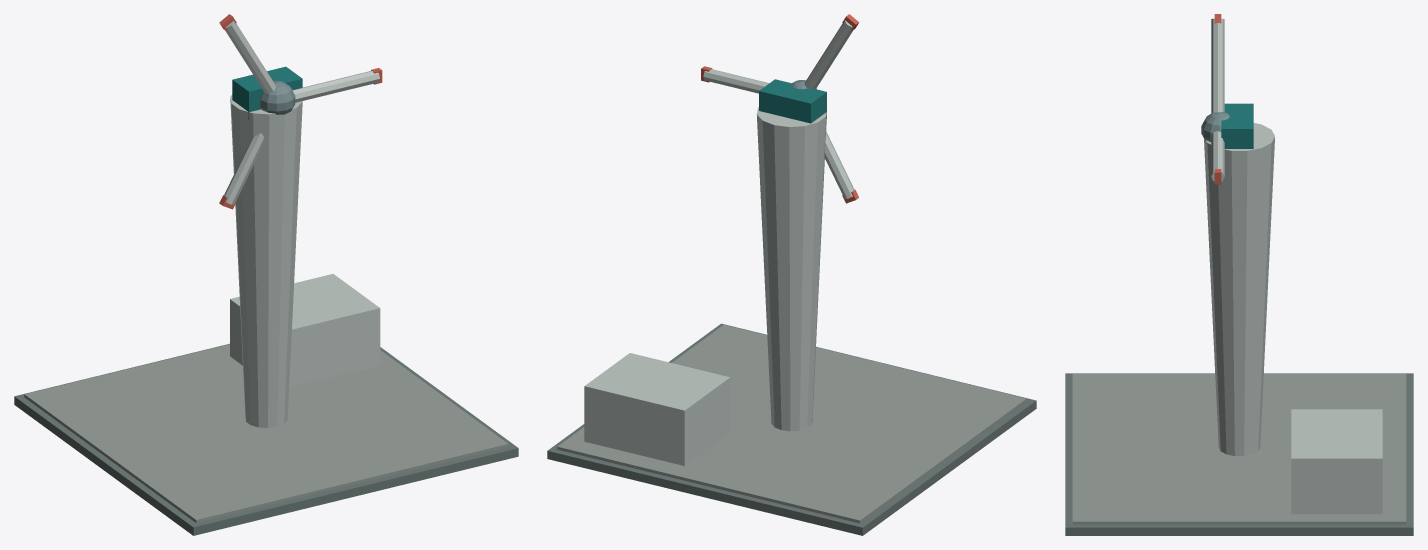
The model's file is wind_lv2.glb.
3 views of the same model, side by side, from view 1: azimuth 30°, elevation 25°; view 2: azimuth 150°, elevation 25°; view 3: azimuth 270°, elevation 25° (orthographic). The views are drawn at different scales.
Visible parts, largest first — view 1: rough, metallic; view 2: rough; view 3: rough, metallic.
Boxes of the visible parts, x1=… form: rough: x1=14, y1=14, x2=518, y2=535; metallic: x1=260, y1=80, x2=295, y2=114; rough: x1=547, y1=14, x2=1036, y2=535; rough: x1=1065, y1=14, x2=1413, y2=535; metallic: x1=1201, y1=111, x2=1229, y2=141.
Size of the model in its own units: 8.8 by 11.25 by 8.4.
